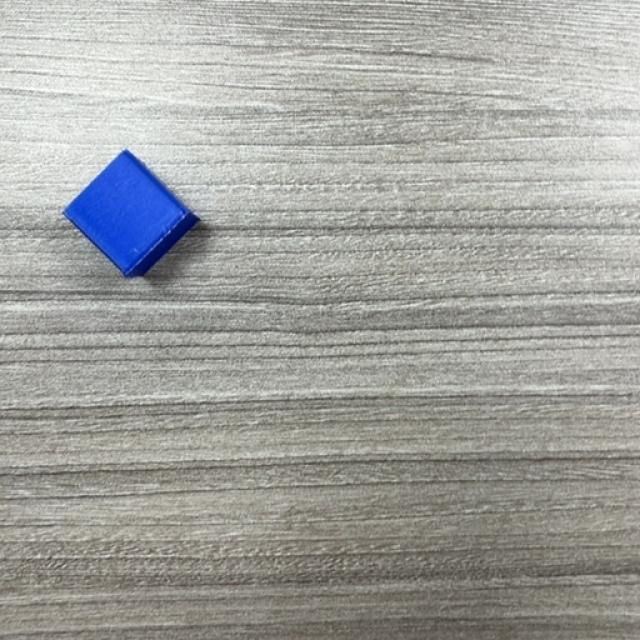Azul: (62, 150, 200, 280)
